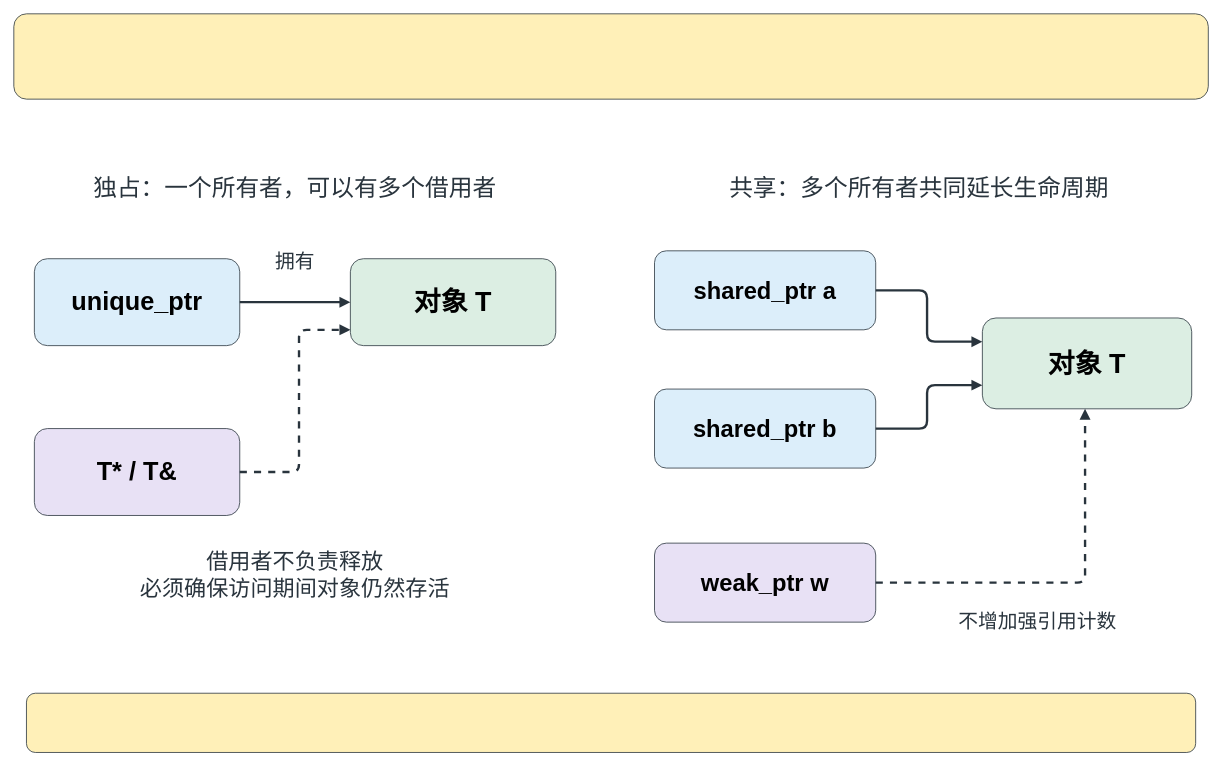
Some shapes in this 1222 by 766 pixel diagram are drawn without their labels. The shapes that lost their labels are listed below. From the top down, each one's centre as x and y in pixels, then its label:
At (x=610, y=56): "01｜会访问，不等于有所有权".
At (x=611, y=722): "unique_ptr 的“唯一”限制的是所有者数量，不是访问者数量。".
